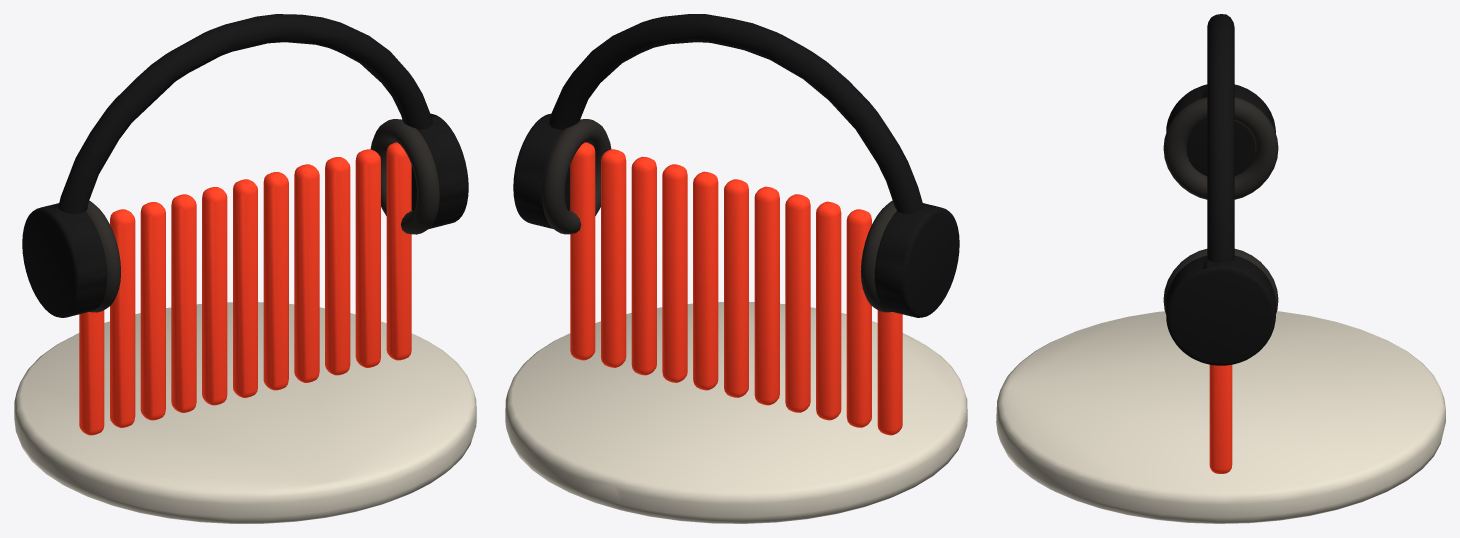
Rendered from sight.glb.
The picture shows the model from 3 angles, left to right: view 1: azimuth 30°, elevation 25°; view 2: azimuth 150°, elevation 25°; view 3: azimuth 270°, elevation 25°; orthographic projection. The views are drawn at different scales.
Visible parts, largest first — view 1: sbase, band, cup, sight_bar_7, sight_bar_3, sight_bar_6, sight_bar_2, sight_bar_4, sight_bar_8, sight_bar_9, sight_bar_5, sight_bar_10 (+5 smaller); view 2: sbase, band, cup, sight_bar_6, sight_bar_2, sight_bar_4, sight_bar_3, sight_bar_7, sight_bar_9, sight_bar_8, sight_bar_5, sight_bar_10 (+5 smaller); view 3: sbase, cup.001, band, cush, cup, sight_bar_10, cush.001.
Part boxes in pixels (x1,y1,x2,y2): sbase: [14, 302, 476, 523]; band: [58, 14, 432, 213]; cup: [22, 203, 107, 317]; sight_bar_7: [294, 164, 319, 382]; sight_bar_3: [171, 194, 196, 412]; sight_bar_6: [263, 172, 288, 390]; sight_bar_2: [140, 202, 165, 420]; sight_bar_4: [202, 187, 227, 405]; sight_bar_8: [325, 157, 350, 375]; sight_bar_9: [355, 149, 380, 367]; sight_bar_5: [233, 179, 257, 397]; sight_bar_10: [386, 142, 411, 360]; sbase: [505, 302, 967, 523]; band: [549, 14, 923, 213]; cup: [874, 203, 959, 317]; sight_bar_6: [693, 171, 718, 390]; sight_bar_2: [816, 201, 841, 420]; sight_bar_4: [754, 186, 779, 405]; sight_bar_3: [785, 194, 810, 412]; sight_bar_7: [662, 164, 687, 382]; sight_bar_9: [601, 149, 626, 367]; sight_bar_8: [631, 156, 656, 375]; sight_bar_5: [724, 179, 748, 397]; sight_bar_10: [570, 142, 595, 360]; sbase: [996, 311, 1445, 523]; cup.001: [1166, 255, 1275, 365]; band: [1207, 14, 1234, 262]; cush: [1163, 97, 1278, 199]; cup: [1166, 84, 1275, 175]; sight_bar_10: [1209, 364, 1232, 473]; cush.001: [1163, 249, 1278, 314].
Bounding box in the file's own units: 1.96 × 1.91 × 1.96.
